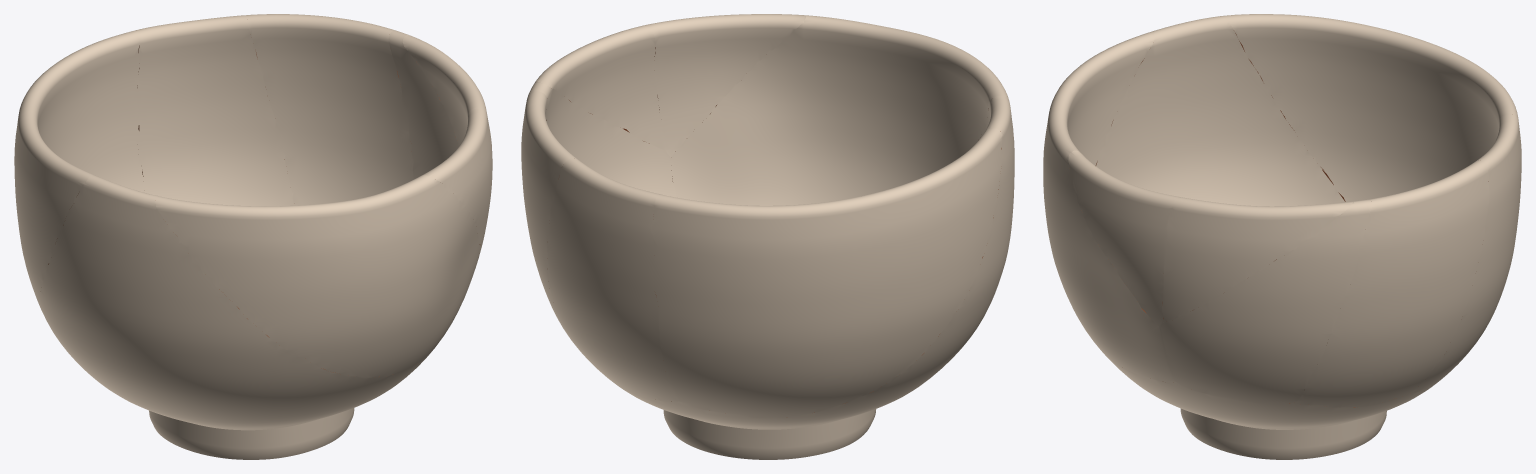
Rendered from Z1_drop.glb.
3 views of the same model, side by side, from view 1: azimuth 30°, elevation 25°; view 2: azimuth 150°, elevation 25°; view 3: azimuth 270°, elevation 25° (orthographic).
Parts seen in each view (by area): view 1: shard_00, shard_04, shard_06, shard_05, shard_07, shard_03, shard_01, shard_02; view 2: shard_07, shard_04, shard_06, shard_00, shard_01, shard_02, shard_03, shard_05; view 3: shard_00, shard_07, shard_05, shard_03, shard_04, shard_02, shard_01, shard_06.
Part boxes in pixels (box(x1,y1,x2,y2)): shard_00: box(39, 175, 436, 459); shard_04: box(155, 175, 480, 377); shard_06: box(134, 15, 294, 206); shard_05: box(247, 14, 413, 205); shard_07: box(14, 31, 144, 310); shard_03: box(388, 30, 483, 243); shard_01: box(423, 108, 492, 249); shard_02: box(402, 36, 491, 233); shard_07: box(652, 128, 1002, 417); shard_04: box(671, 15, 1008, 205); shard_06: box(547, 158, 678, 401); shard_00: box(612, 96, 1014, 459); shard_01: box(647, 14, 805, 157); shard_02: box(536, 24, 665, 150); shard_03: box(529, 81, 676, 197); shard_05: box(521, 91, 576, 328); shard_00: box(1095, 16, 1436, 459); shard_07: box(1223, 14, 1520, 202); shard_05: box(1296, 160, 1489, 407); shard_03: box(1160, 199, 1371, 403); shard_04: box(1043, 32, 1175, 382); shard_02: box(1162, 197, 1352, 321); shard_01: box(1068, 150, 1178, 329); shard_06: box(1411, 114, 1521, 392).
Bounding box in the file's own units: 0.1228 × 0.0871 × 0.122.
